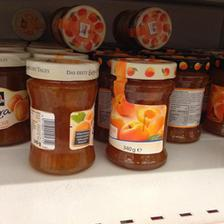Marmelade: (24, 55, 100, 175), (105, 57, 177, 171), (166, 55, 210, 143), (48, 5, 104, 50), (110, 8, 170, 48)
